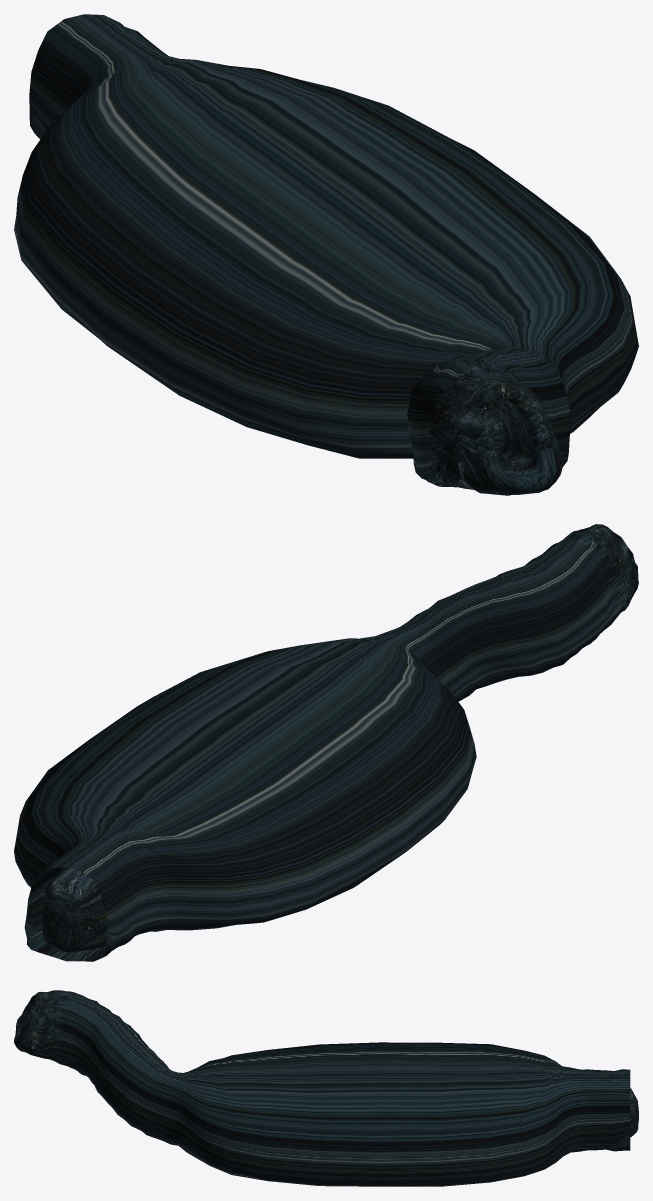
The model's file is presentation_cave.glb.
The picture shows the model from 3 angles, top to bottom: view 1: azimuth 30°, elevation 25°; view 2: azimuth 150°, elevation 25°; view 3: azimuth 270°, elevation 25°; orthographic projection. The views are drawn at different scales.
Visible parts, largest first — view 1: PresentationCave-Col; view 2: PresentationCave-Col; view 3: PresentationCave-Col.
Part boxes in pixels (box(x1,y1,x2,y2)): PresentationCave-Col: box(14, 14, 638, 495); PresentationCave-Col: box(14, 524, 638, 961); PresentationCave-Col: box(14, 990, 638, 1186).
Size of the model in its own units: 35.39 by 16.17 by 84.09.
Materials: 1 (1 with a texture image).
